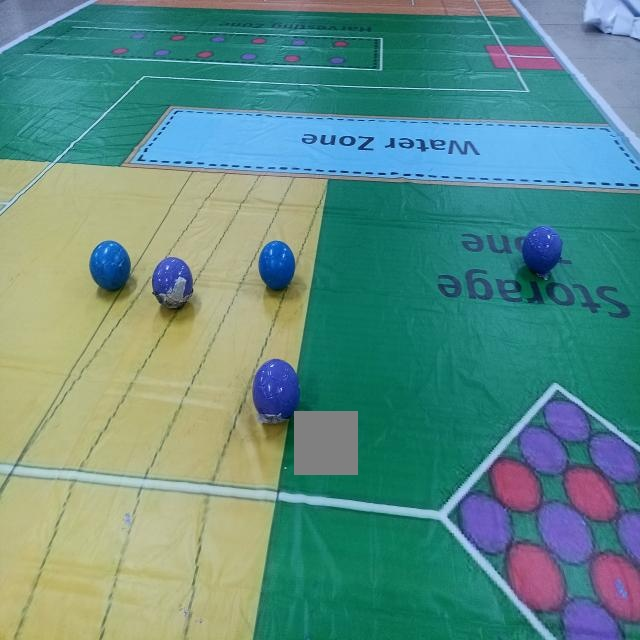blue_ball: (86, 235, 135, 302), (254, 237, 298, 300)
purple_ball: (252, 358, 305, 430), (148, 251, 199, 315), (516, 220, 566, 278)
